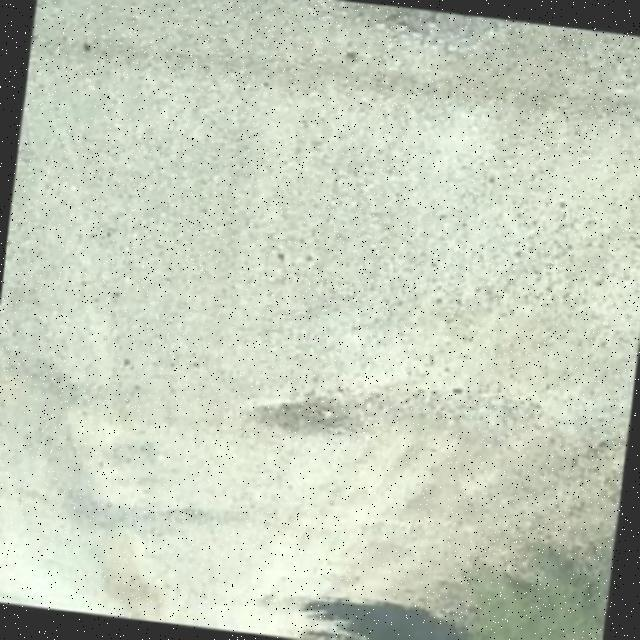Pothole: (250, 389, 541, 442), (153, 504, 233, 522)
